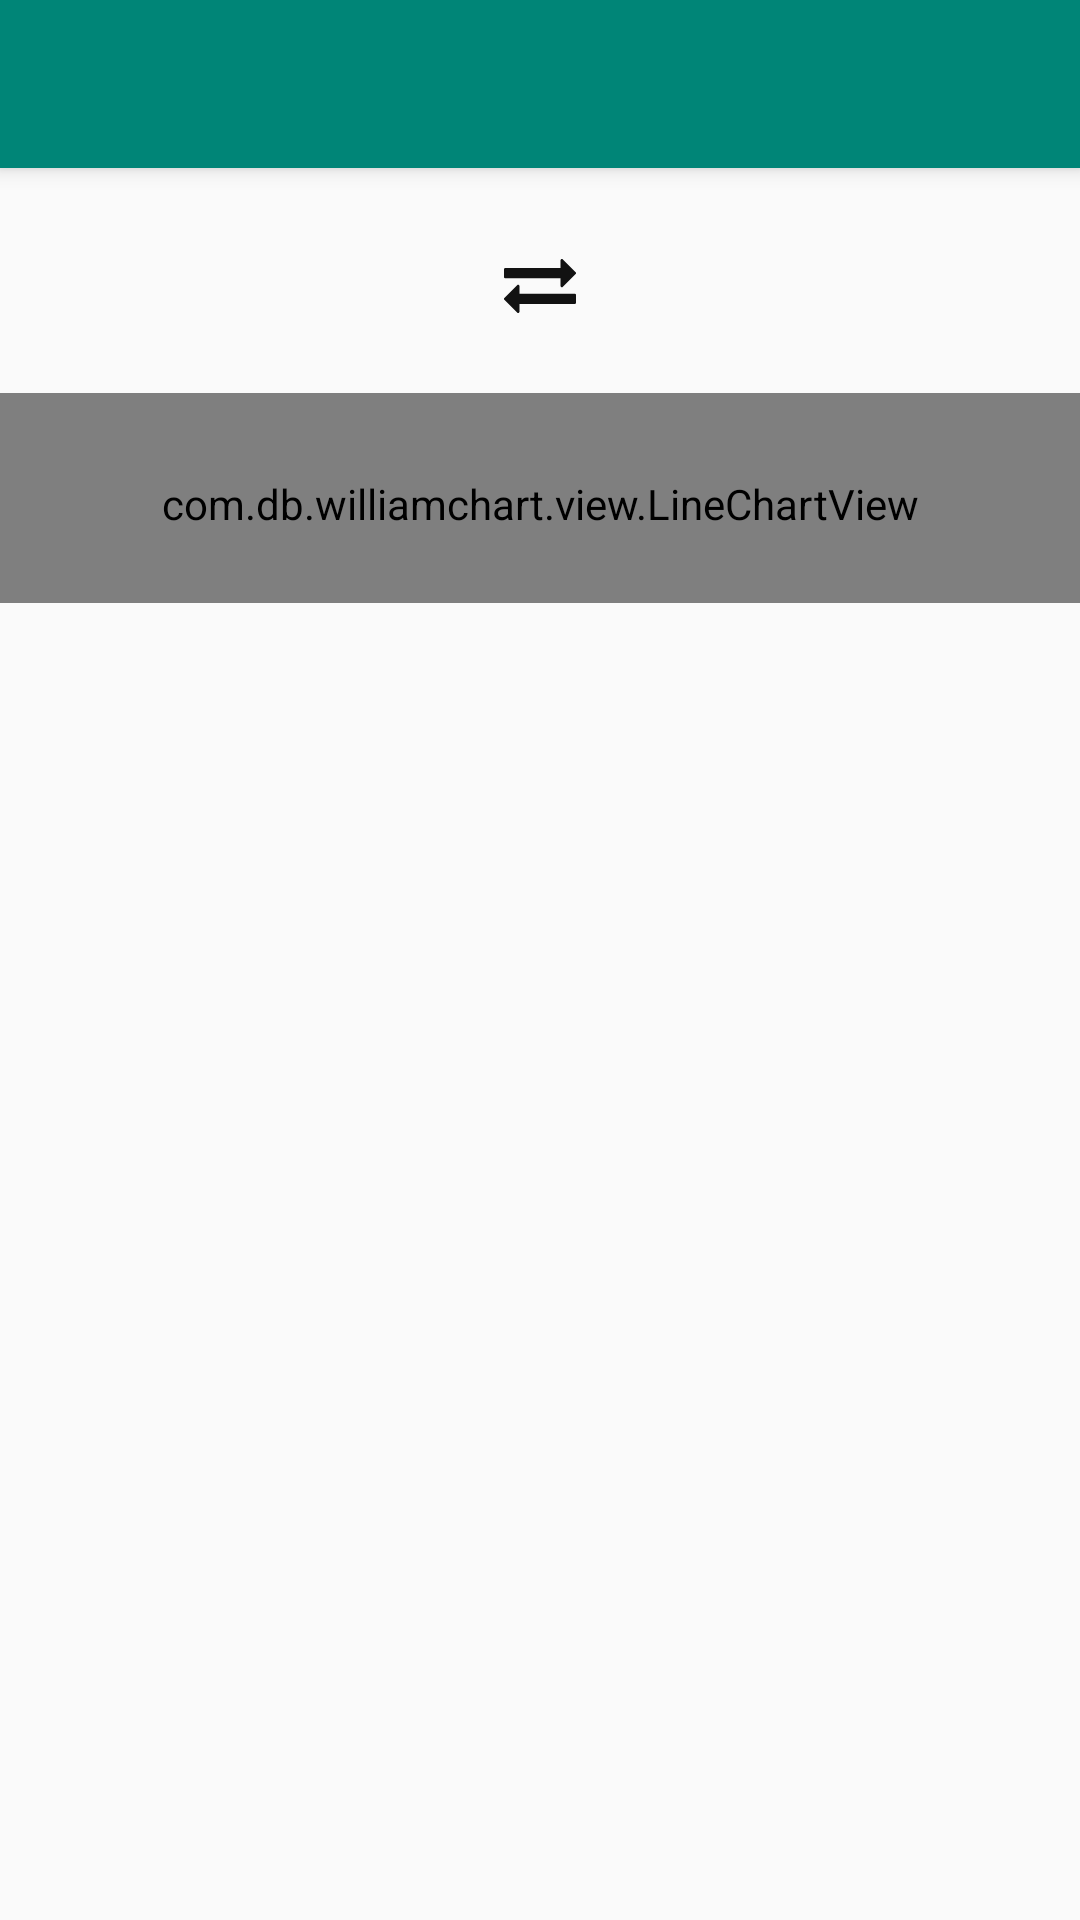

Locate icon controls on the screen. Image size 1080w x 1920h, boxes as (x1, y1, x2, y2).
exchange: (504, 259, 576, 313)
